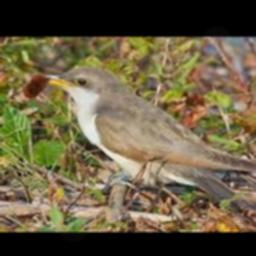Cuckoo: (44, 67, 256, 232)
